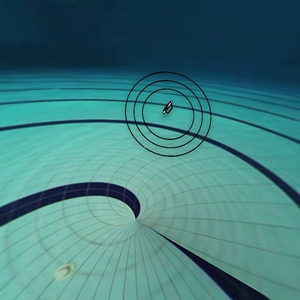circle: (124, 61, 217, 184)
submarine: (157, 95, 180, 122)
